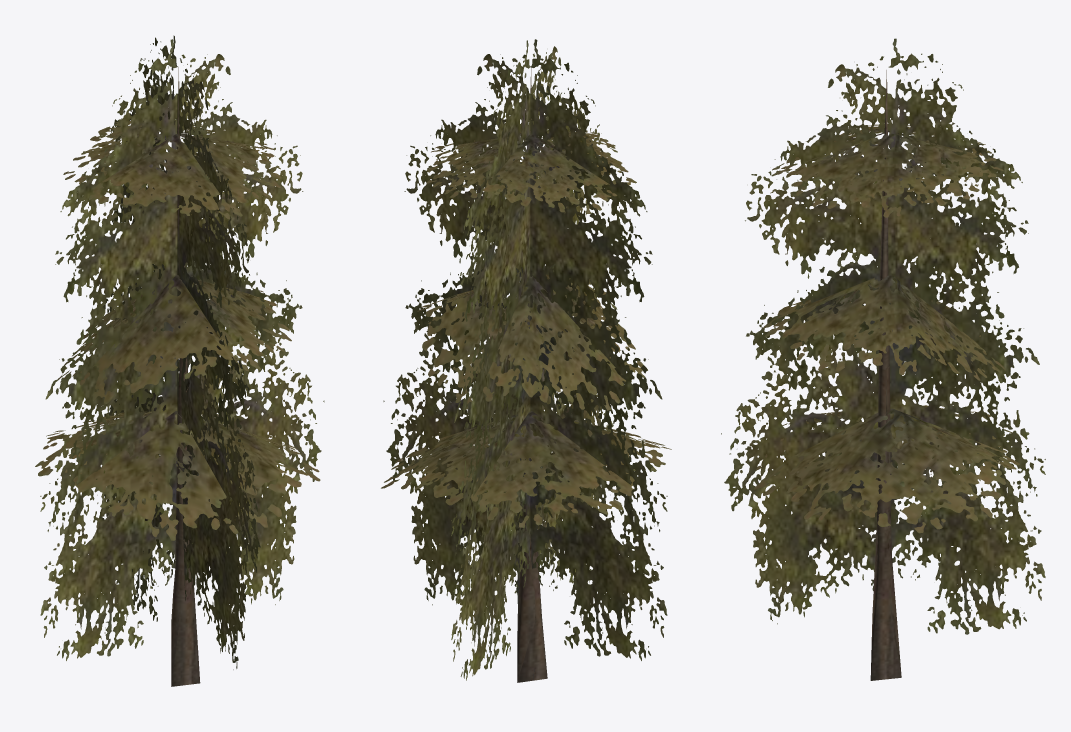
The model's file is Background_Tree_Atlas_004_alt.glb.
The picture shows the model from 3 angles, left to right: view 1: azimuth 30°, elevation 25°; view 2: azimuth 150°, elevation 25°; view 3: azimuth 270°, elevation 25°; orthographic projection.
Parts seen in each view (by area): view 1: Background_Tree_Atlas.004; view 2: Background_Tree_Atlas.004; view 3: Background_Tree_Atlas.004.
Part boxes in pixels (x1,y1,x2,y2): Background_Tree_Atlas.004: (35, 35, 324, 686); Background_Tree_Atlas.004: (381, 39, 671, 682); Background_Tree_Atlas.004: (721, 38, 1045, 680).
Bounding box in the file's own units: 1140 × 2454 × 1140.
Materials: 1 (1 with a texture image).
